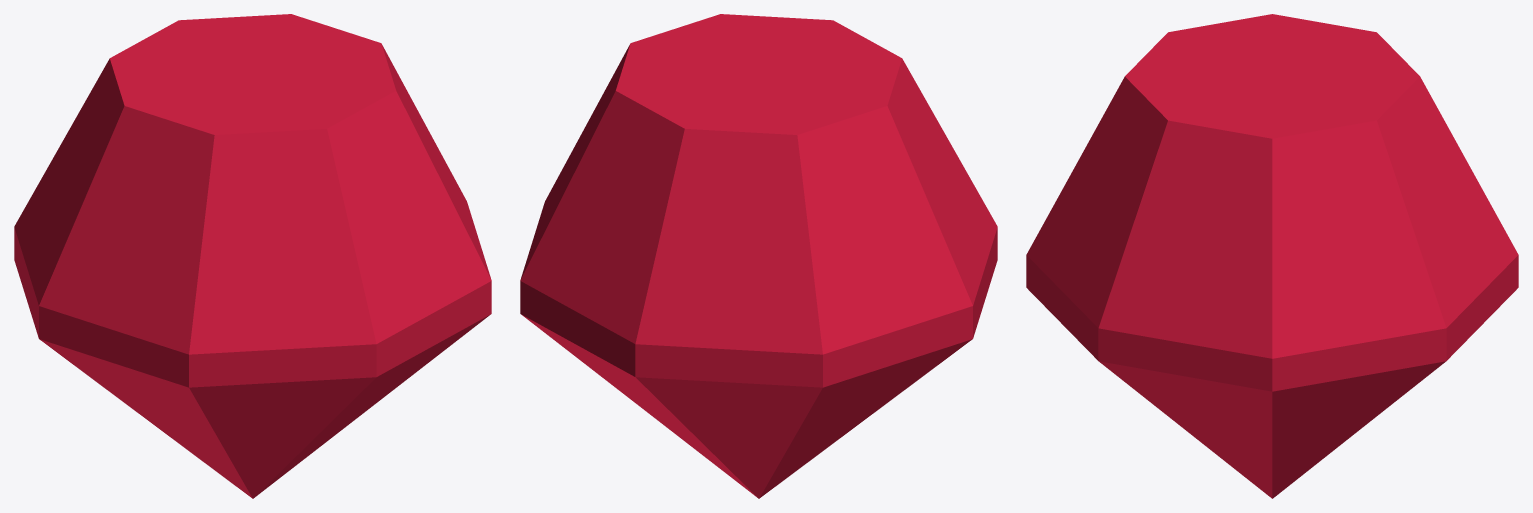
Rendered from gem.glb.
3 views of the same model, side by side, from view 1: azimuth 30°, elevation 25°; view 2: azimuth 150°, elevation 25°; view 3: azimuth 270°, elevation 25° (orthographic).
Visible parts, largest first — view 1: gem; view 2: gem; view 3: gem.
Part boxes in pixels (left/top/right/bottom): gem: left=14, top=14, right=491, bottom=498; gem: left=520, top=14, right=997, bottom=498; gem: left=1026, top=14, right=1518, bottom=498.
Bounding box in the file's own units: 0.114 × 0.108 × 0.114.
